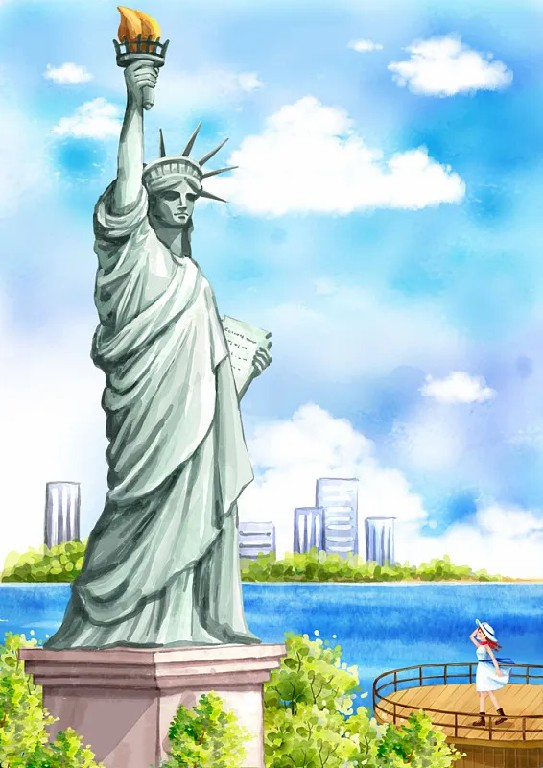SL: (18, 6, 287, 768)
